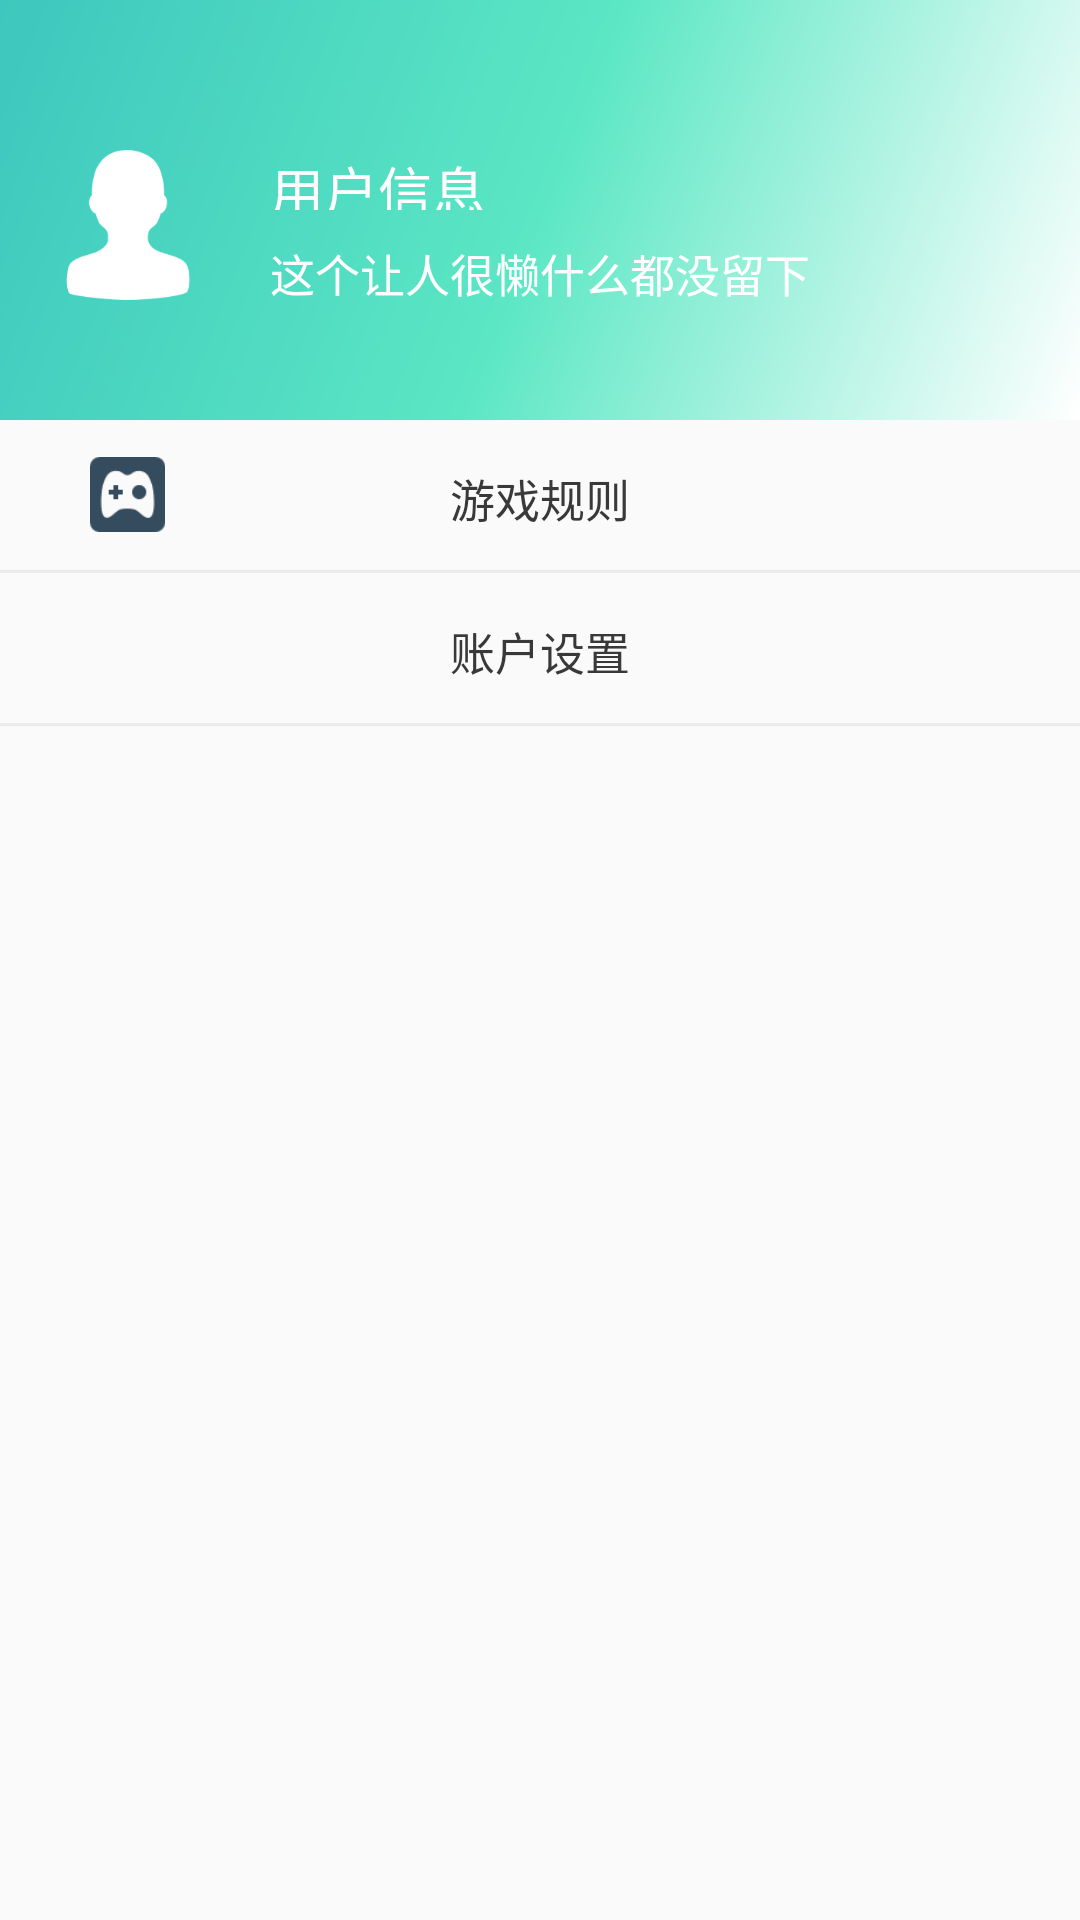

Icon bounding boxes for this 1080x1920 phone screenshot, format (x1, y1, x2, y2):
user yh: (66, 150, 190, 300)
